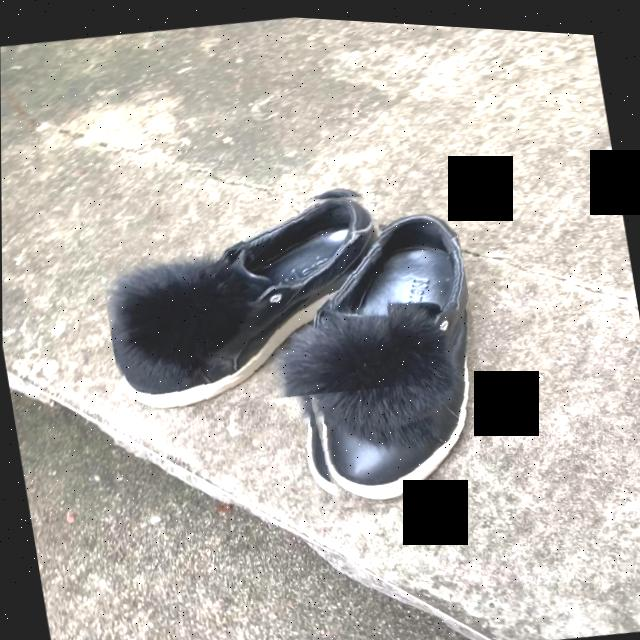shoe: (110, 192, 381, 408), (301, 210, 468, 499)
